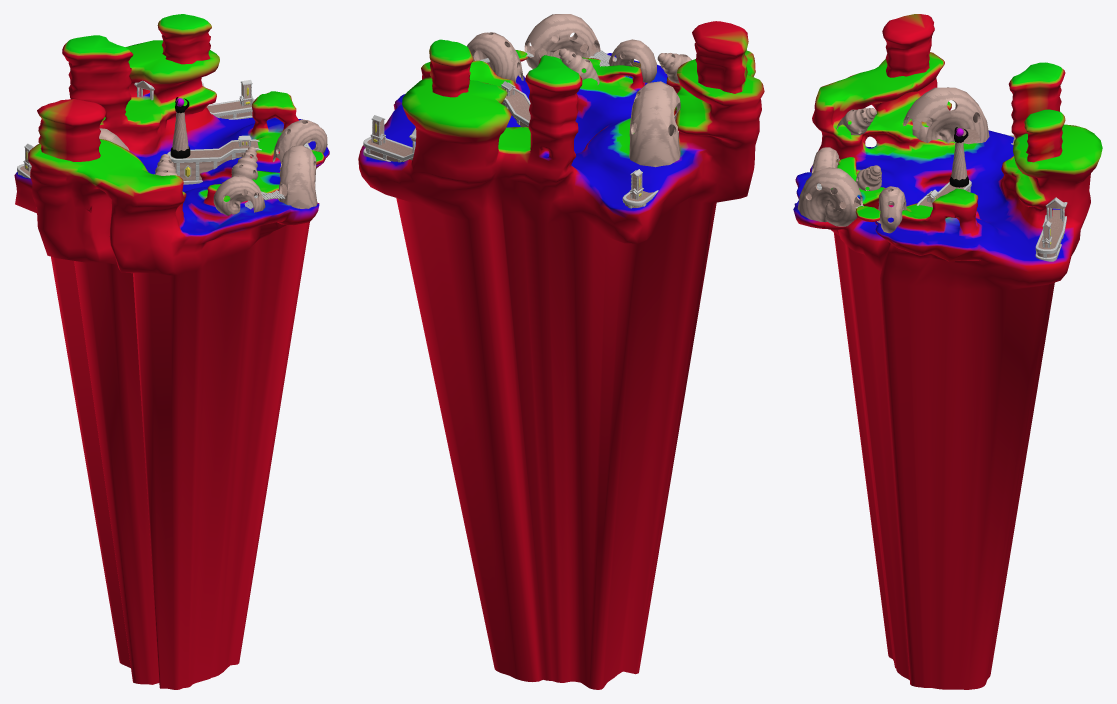
Rendered from Tropics Terrain.fbx.
The picture shows the model from 3 angles, left to right: view 1: azimuth 30°, elevation 25°; view 2: azimuth 150°, elevation 25°; view 3: azimuth 270°, elevation 25°; orthographic projection. The views are drawn at different scales.
Parts seen in each view (by area): view 1: Terrain, Undersea Ruins, Nautilus.003, Nautilus 2, Nautilus.001, Lighthouse, Conch Shell 2; view 2: Terrain, Nautilus 1, Undersea Ruins, Nautilus.003, Nautilus.001, Nautilus 2, Conch Shell 2; view 3: Terrain, Nautilus 1, Nautilus.003, Undersea Ruins, Nautilus.001, Lighthouse, Conch Shell 2.001, Conch Shell 2, Nautilus 2.
Boxes of the visible parts, x1=… form: Terrain: x1=14, y1=14, x2=329, y2=689; Undersea Ruins: x1=17, y1=80, x2=261, y2=184; Nautilus.003: x1=278, y1=145, x2=317, y2=208; Nautilus 2: x1=213, y1=176, x2=265, y2=215; Nautilus.001: x1=272, y1=119, x2=327, y2=169; Lighthouse: x1=170, y1=97, x2=190, y2=158; Conch Shell 2: x1=231, y1=146, x2=258, y2=179; Terrain: x1=358, y1=21, x2=764, y2=689; Nautilus 1: x1=629, y1=81, x2=680, y2=167; Undersea Ruins: x1=363, y1=81, x2=658, y2=208; Nautilus.003: x1=524, y1=14, x2=600, y2=68; Nautilus.001: x1=467, y1=32, x2=523, y2=83; Nautilus 2: x1=608, y1=39, x2=656, y2=82; Conch Shell 2: x1=558, y1=48, x2=599, y2=84; Terrain: x1=793, y1=14, x2=1102, y2=689; Nautilus 1: x1=903, y1=87, x2=989, y2=143; Nautilus.003: x1=797, y1=129, x2=980, y2=226; Undersea Ruins: x1=916, y1=135, x2=1067, y2=261; Nautilus.001: x1=877, y1=186, x2=906, y2=233; Lighthouse: x1=949, y1=127, x2=968, y2=187; Conch Shell 2.001: x1=836, y1=108, x2=876, y2=135; Conch Shell 2: x1=855, y1=165, x2=881, y2=190; Nautilus 2: x1=811, y1=147, x2=839, y2=174.
Bounding box in the file's own units: 19871 × 37200 × 17902.
